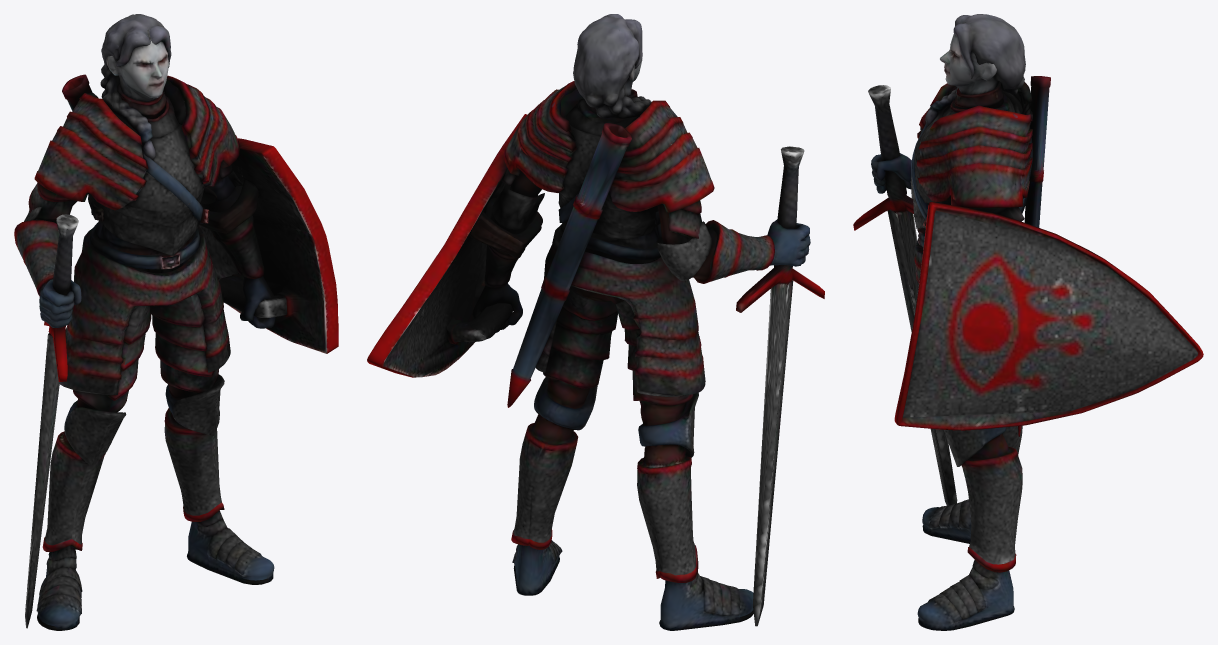
Rendered from MZ4250 - Human Female Paladin 4c.glb.
3 renders of one model, left to right at view 1: azimuth 30°, elevation 25°; view 2: azimuth 150°, elevation 25°; view 3: azimuth 270°, elevation 25°, orthographic. The views are drawn at different scales.
Parts seen in each view (by area): view 1: Human Female Paladin 4.001; view 2: Human Female Paladin 4.001; view 3: Human Female Paladin 4.001.
Boxes of the visible parts, <box> form: Human Female Paladin 4.001: <box>14,14,338,630</box>; Human Female Paladin 4.001: <box>367,14,824,630</box>; Human Female Paladin 4.001: <box>853,14,1203,630</box>.
Bounding box in the file's own units: 19.77 × 35.34 × 19.9.
1 material, 1 textured.
